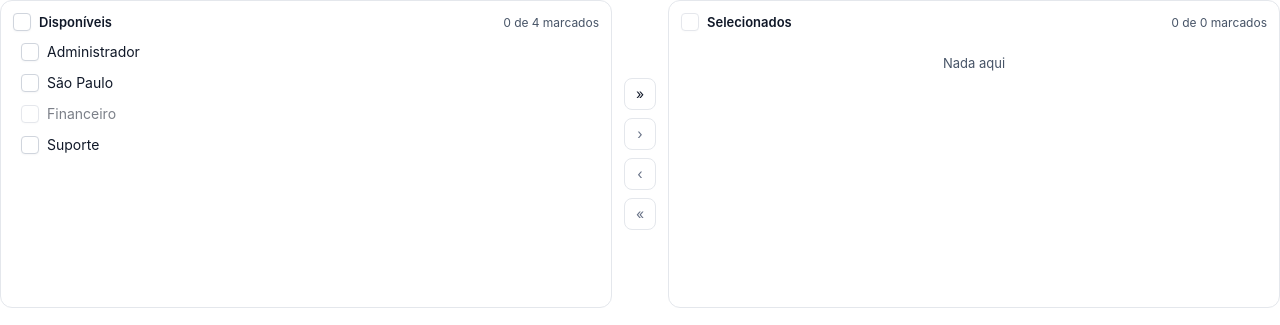
Transfer › clears the checks after a move, so the next click does not send it back
Step 1. Click the 3rd checkbox labelled "Administrador" → x=80, y=52, box [21,43,140,62]
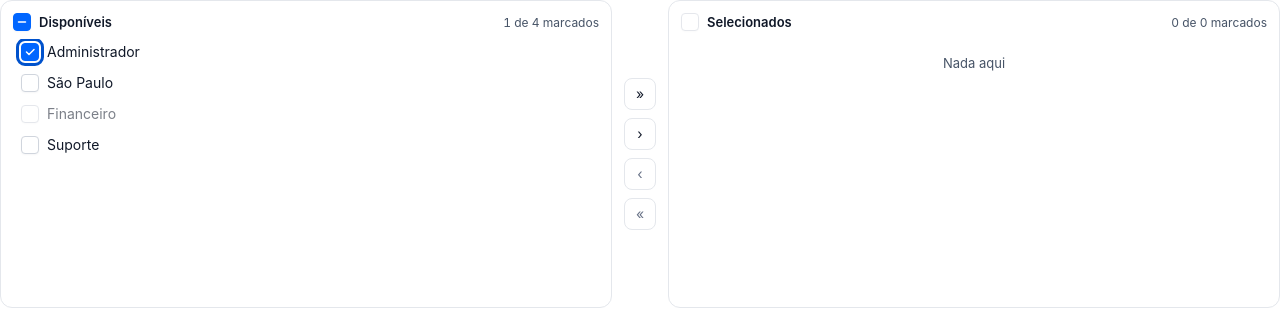
Step 2. Click the button named "Mover selecionados para a direita" → x=640, y=134, box [624,118,656,150]
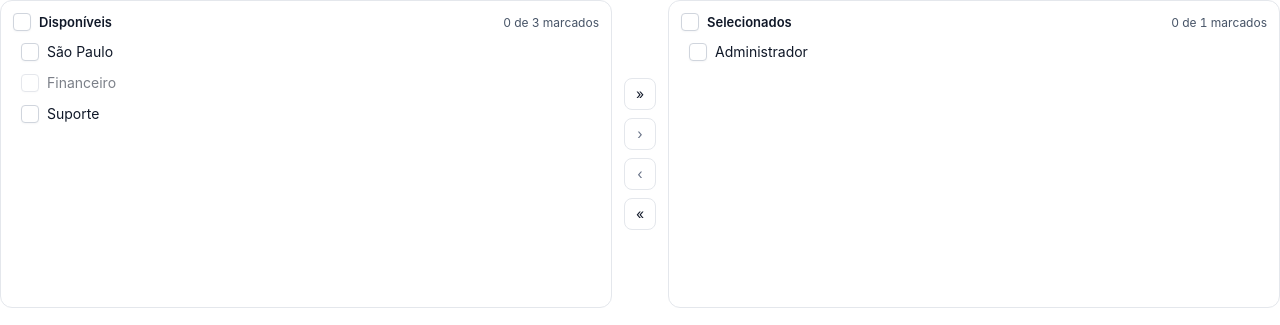
Expected: the button named "Mover selecionados para a esquerda" is disabled, [624,158,656,190]
Now the 3rd checkbox labelled "Administrador" is not checked, box [689,43,808,62]
